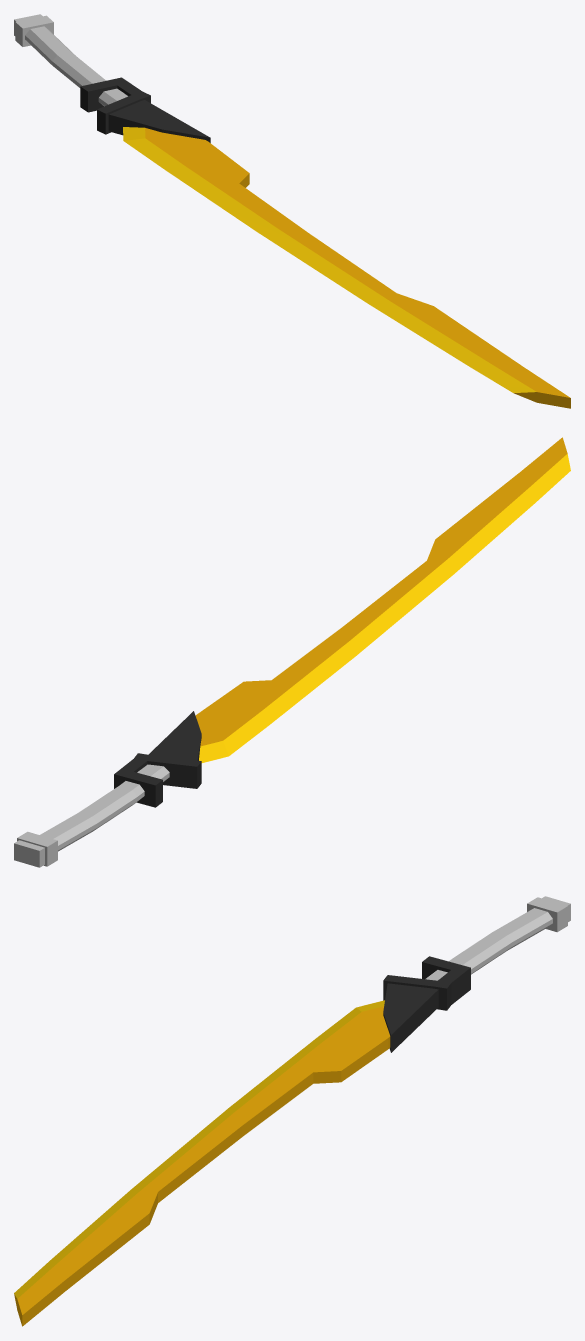
Rendered from Katana.fbx.
3 renders of one model, top to bottom at view 1: azimuth 30°, elevation 25°; view 2: azimuth 150°, elevation 25°; view 3: azimuth 330°, elevation 25°, orthographic. The views are drawn at different scales.
Visible parts, largest first — view 1: Body.001; view 2: Body.001; view 3: Body.001.
Boxes of the visible parts, x1,y1,x2,y2 form: Body.001: [14, 14, 570, 408]; Body.001: [14, 437, 570, 867]; Body.001: [14, 896, 570, 1326].
Bounding box in the file's own units: 8.66 × 2.59 × 118.
